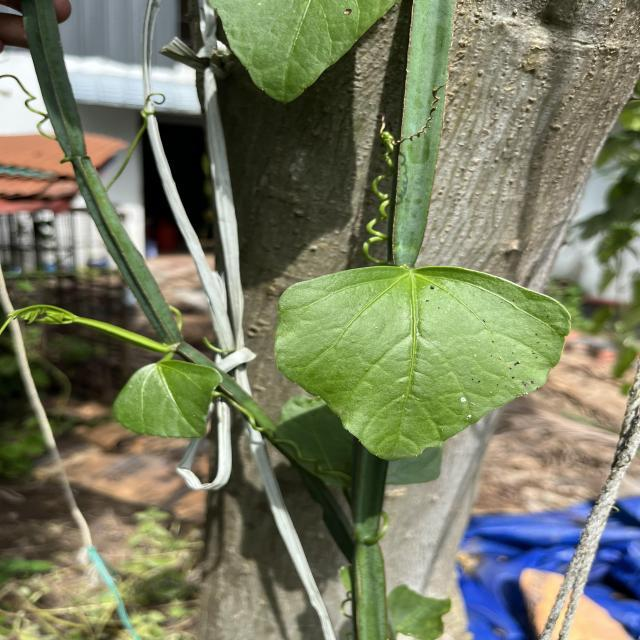Cissus quadrangularis: (271, 261, 574, 464)
